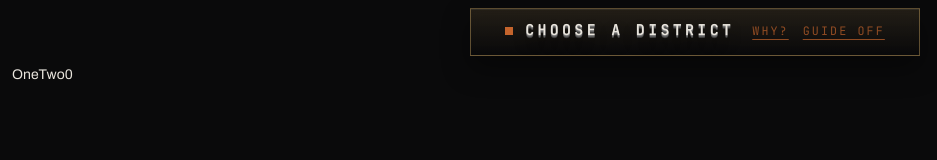
Test: guide layer › never blocks normal clicking
The width and height of the screenshot is (937, 160).
Click the button "One": click(25, 74) top-left (12, 64), bottom-right (39, 84)
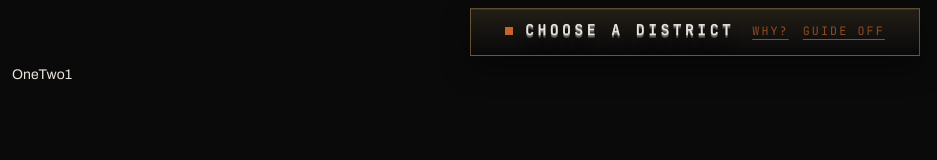
Result: the text with test id "clicks" reads "1" at top-left (65, 66), bottom-right (72, 82)
